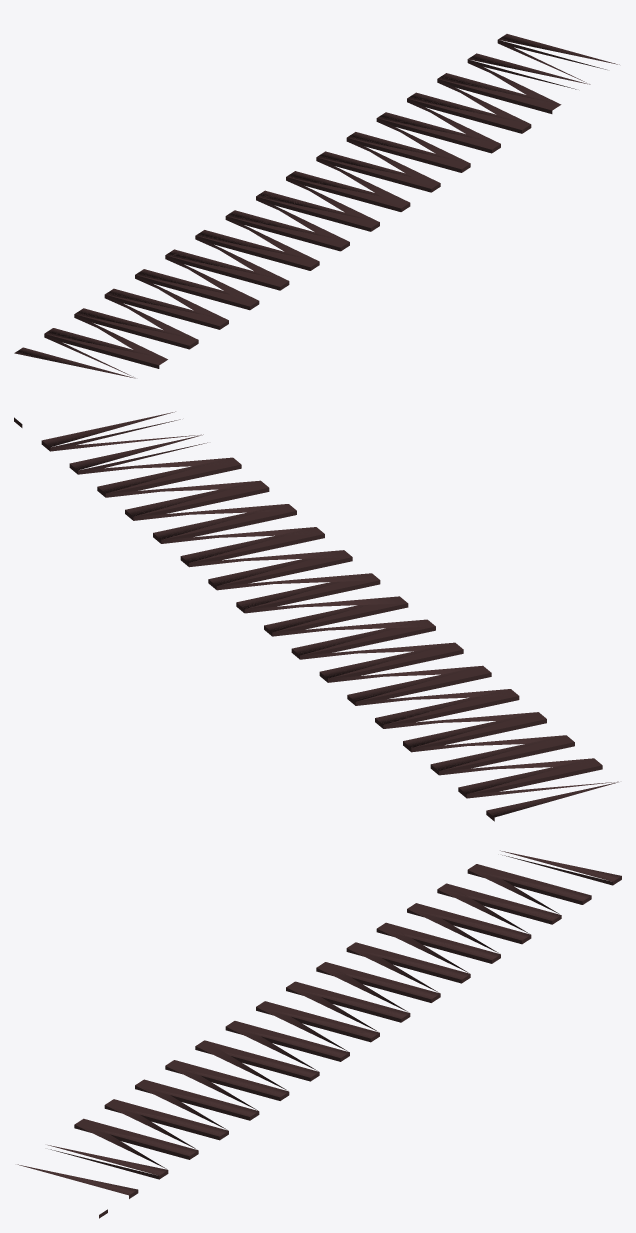
3 renders of one model, top to bottom at view 1: azimuth 90°, elevation 25°; view 2: azimuth 150°, elevation 25°; view 3: azimuth 270°, elevation 25°, orthographic. The views are drawn at different scales.
Bounding box in the file's own units: 13.41 × 0.064 × 9.44.
